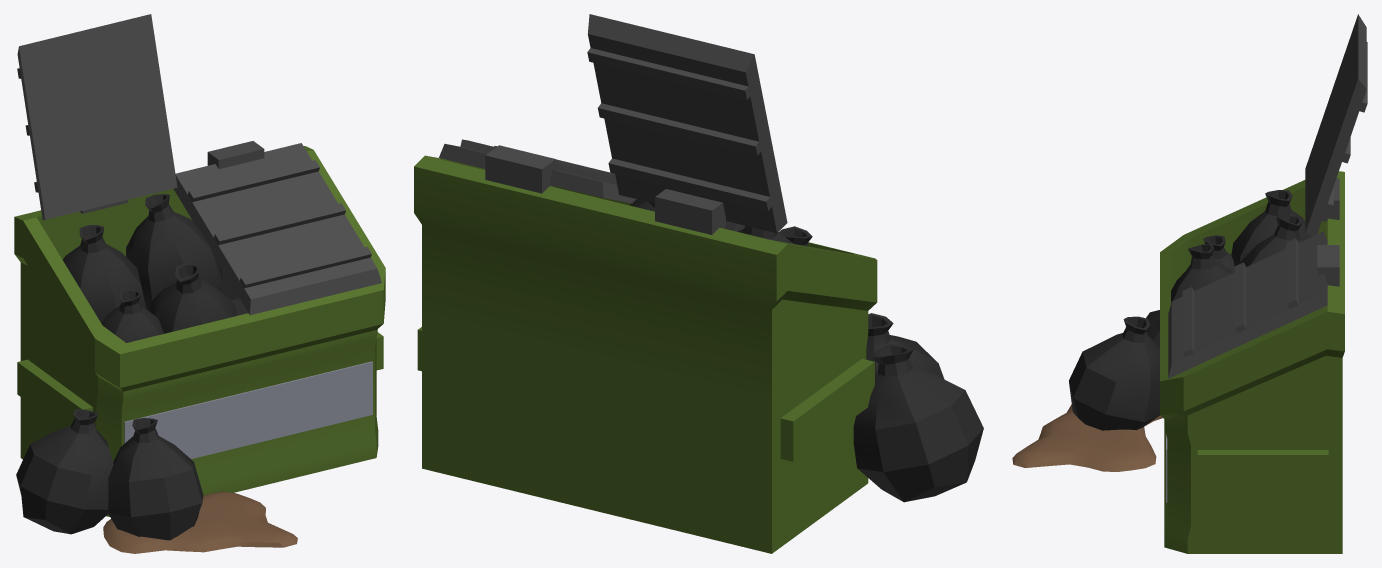
File: TrashContainer_Open.glb
3 renders of one model, left to right at view 1: azimuth 30°, elevation 25°; view 2: azimuth 150°, elevation 25°; view 3: azimuth 270°, elevation 25°, orthographic. The views are drawn at different scales.
Parts seen in each view (by area): view 1: TrashContainer_Open; view 2: TrashContainer_Open; view 3: TrashContainer_Open.
Boxes of the visible parts, <box> form: TrashContainer_Open: <box>14,14,385,553</box>; TrashContainer_Open: <box>414,14,983,553</box>; TrashContainer_Open: <box>1012,14,1367,553</box>.
Size of the model in its own units: 3.16 by 3.34 by 2.63.
